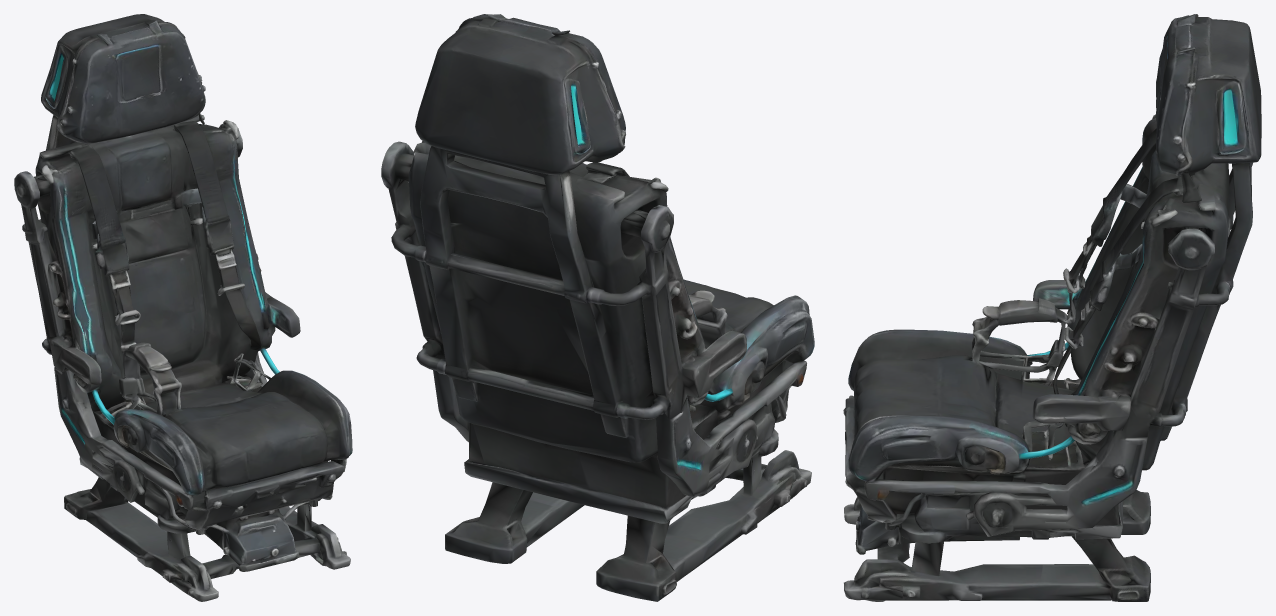
The model's file is seat_v2.glb.
3 views of the same model, side by side, from view 1: azimuth 30°, elevation 25°; view 2: azimuth 150°, elevation 25°; view 3: azimuth 270°, elevation 25° (orthographic). The views are drawn at different scales.
Parts seen in each view (by area): view 1: tripo_node_d5a78b1f-f1ef-4221-914f-ff987827576b; view 2: tripo_node_d5a78b1f-f1ef-4221-914f-ff987827576b; view 3: tripo_node_d5a78b1f-f1ef-4221-914f-ff987827576b.
Boxes of the visible parts, bbox=[...] form: tripo_node_d5a78b1f-f1ef-4221-914f-ff987827576b: bbox=[14, 14, 352, 601]; tripo_node_d5a78b1f-f1ef-4221-914f-ff987827576b: bbox=[381, 14, 814, 601]; tripo_node_d5a78b1f-f1ef-4221-914f-ff987827576b: bbox=[843, 14, 1261, 601].
Bounding box in the file's own units: 0.5046 × 0.9998 × 0.7157.
Materials: 1 (1 with a texture image).
